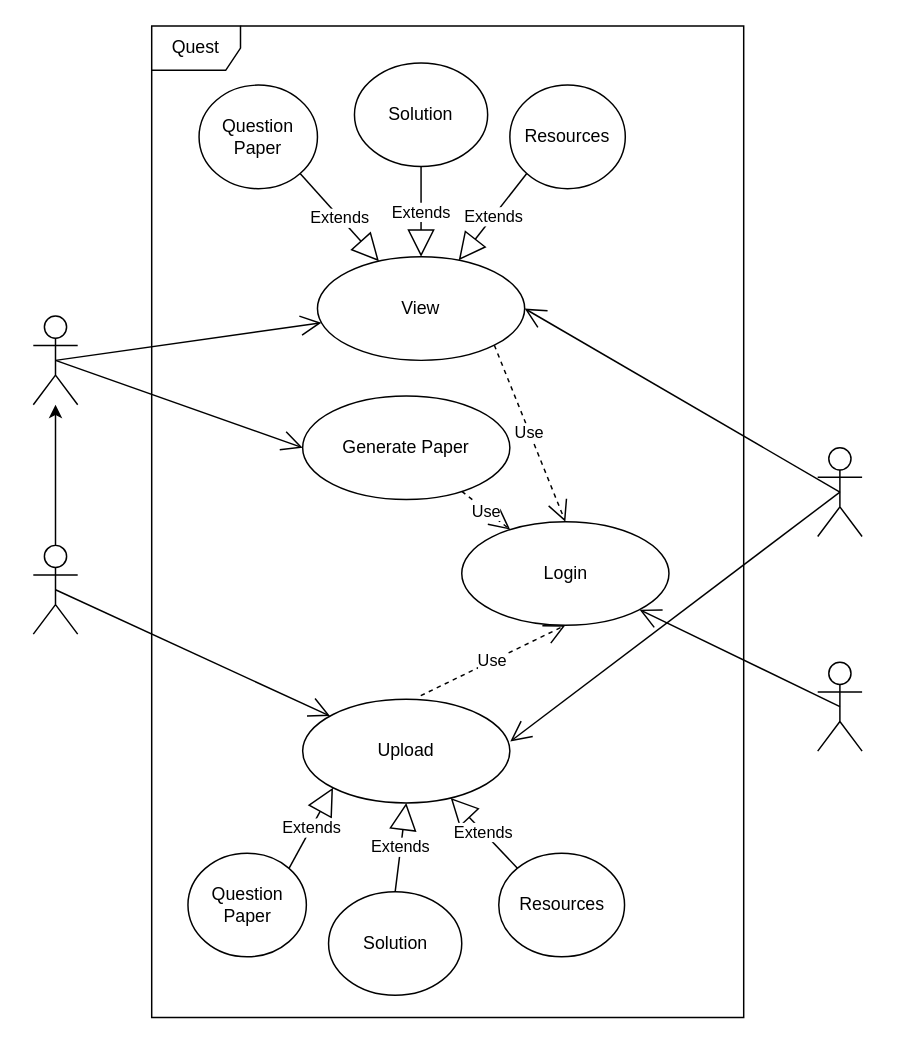
Some shapes in this 897 by 1043 pixel diagram are drawn without their labels. The box of each missing label's shape, as (x1, y1, x2, y2) in pixels:
Admin: (32, 544, 78, 634)
Gmail: (816, 661, 862, 751)
Student: (32, 314, 78, 405)
Teacher: (816, 446, 862, 536)
